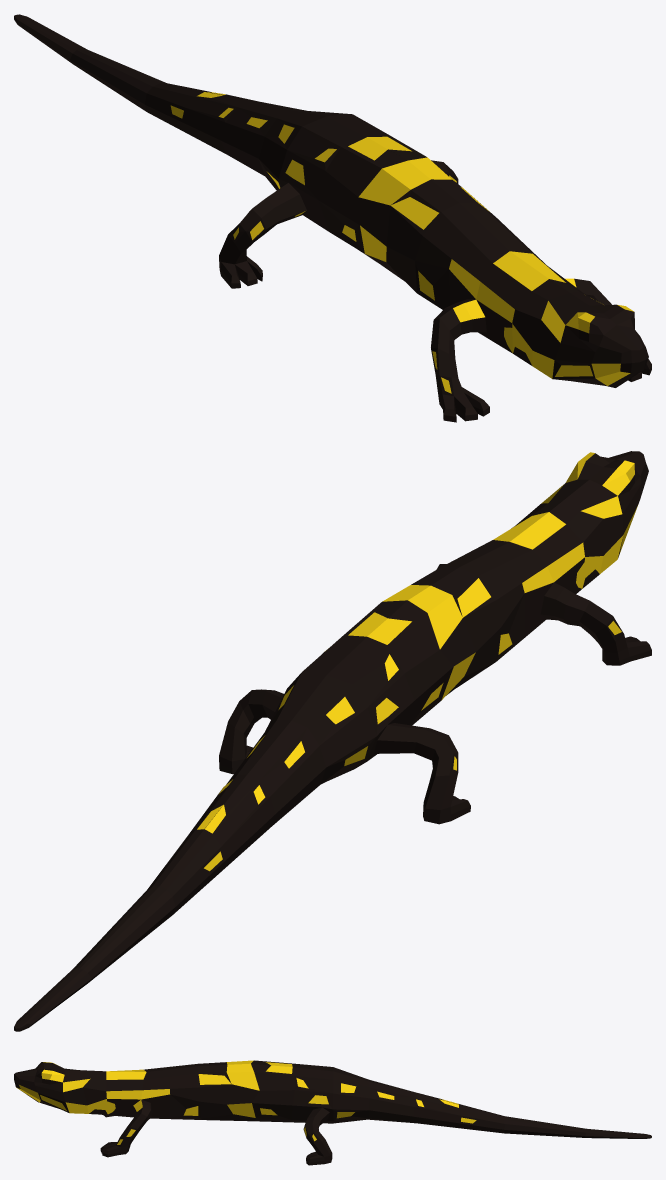
The model's file is 15lizardFinal.fbx.
The picture shows the model from 3 angles, top to bottom: view 1: azimuth 30°, elevation 25°; view 2: azimuth 150°, elevation 25°; view 3: azimuth 270°, elevation 25°; orthographic projection. The views are drawn at different scales.
Parts seen in each view (by area): view 1: 15lizardFinal; view 2: 15lizardFinal; view 3: 15lizardFinal.
Boxes of the visible parts, box(x1,y1,x2,y2) form: 15lizardFinal: box(14, 14, 651, 422); 15lizardFinal: box(14, 451, 651, 1031); 15lizardFinal: box(14, 1060, 651, 1165).
Bounding box in the file's own units: 22.29 × 12.84 × 100.
